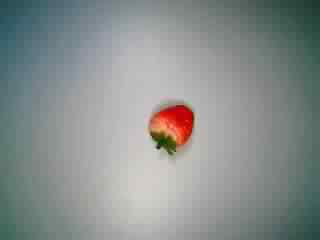strawberry: (135, 97, 203, 161)
